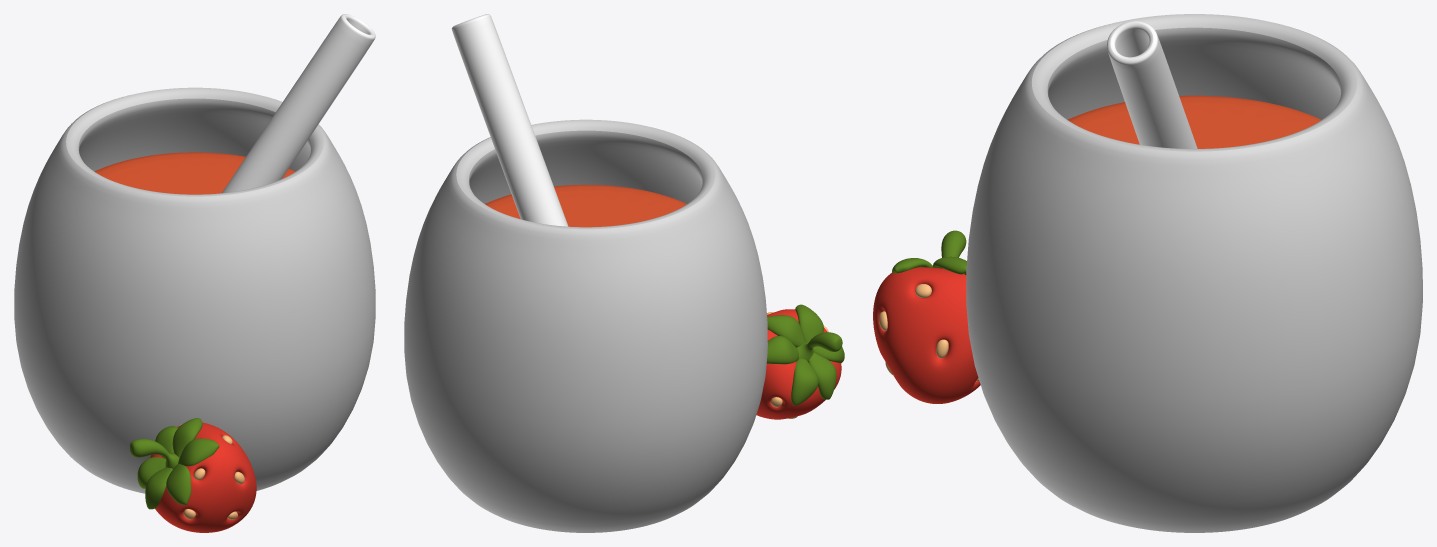
The model's file is drink4.glb.
The picture shows the model from 3 angles, left to right: view 1: azimuth 30°, elevation 25°; view 2: azimuth 150°, elevation 25°; view 3: azimuth 270°, elevation 25°; orthographic projection. The views are drawn at different scales.
Parts seen in each view (by area): view 1: Cylinder.007, Circle.090, Cube.077, Cylinder.010, Plane.008, Circle.089, Cube.076; view 2: Cylinder.007, Circle.090, Cylinder.010, Plane.008, Cube.077, Circle.089; view 3: Cylinder.007, Cube.077, Cylinder.010, Circle.090, Plane.008.
Part boxes in pixels (left/top/right/bottom): Cylinder.007: left=14, top=87, right=375, bottom=493; Circle.090: left=222, top=14, right=375, bottom=193; Cube.077: left=150, top=422, right=256, bottom=532; Cylinder.010: left=94, top=152, right=295, bottom=194; Plane.008: left=137, top=418, right=219, bottom=509; Circle.089: left=130, top=439, right=179, bottom=468; Cube.076: left=179, top=424, right=244, bottom=519; Cylinder.007: left=404, top=119, right=767, bottom=532; Circle.090: left=452, top=14, right=568, bottom=226; Cylinder.010: left=485, top=184, right=686, bottom=227; Plane.008: left=766, top=304, right=844, bottom=405; Cube.077: left=756, top=309, right=841, bottom=419; Circle.089: left=796, top=332, right=842, bottom=361; Cylinder.007: left=966, top=14, right=1422, bottom=532; Cube.077: left=873, top=267, right=980, bottom=403; Cylinder.010: left=1067, top=95, right=1321, bottom=148; Circle.090: left=1107, top=21, right=1197, bottom=148; Plane.008: left=892, top=256, right=966, bottom=274.
Size of the model in its own units: 6.12 by 7.87 by 7.33.
